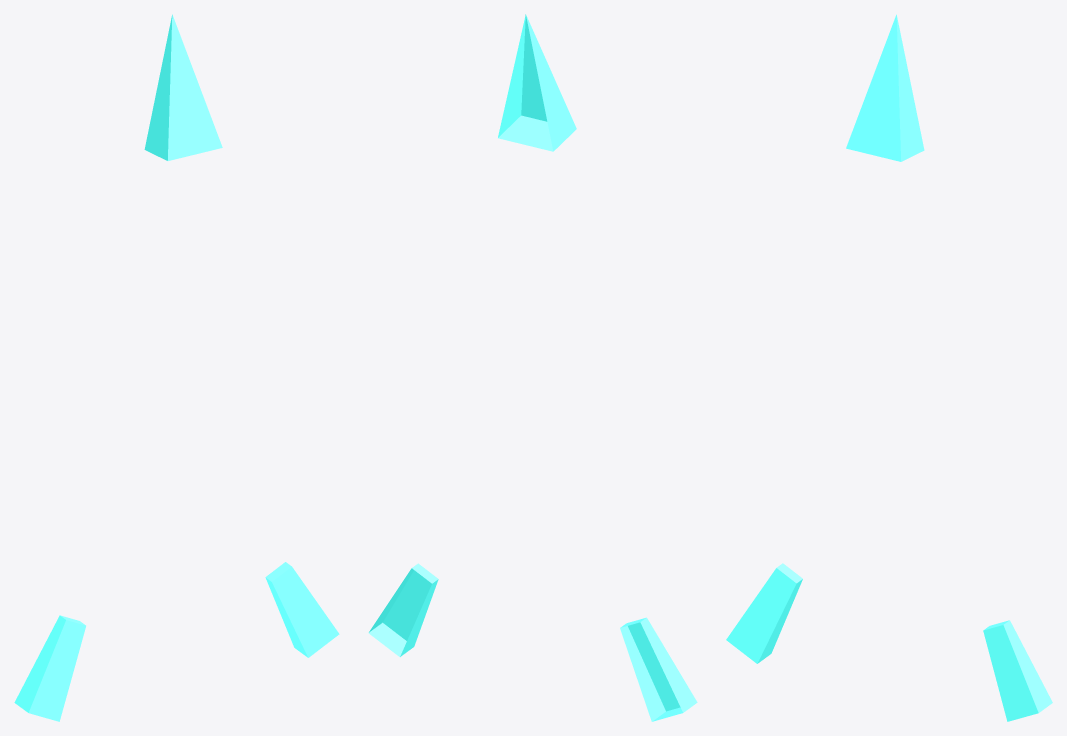
File: AccelDiscPointer.fbx
3 renders of one model, left to right at view 1: azimuth 30°, elevation 25°; view 2: azimuth 150°, elevation 25°; view 3: azimuth 330°, elevation 25°, orthographic.
Visible parts, largest first — view 1: AccelDiscPointer; view 2: AccelDiscPointer; view 3: AccelDiscPointer.
Boxes of the visible parts, x1,y1,x2,y2 form: AccelDiscPointer: (14, 14, 339, 721); AccelDiscPointer: (368, 14, 697, 721); AccelDiscPointer: (726, 14, 1052, 721).
Bounding box in the file's own units: 138 × 283 × 18.54.
